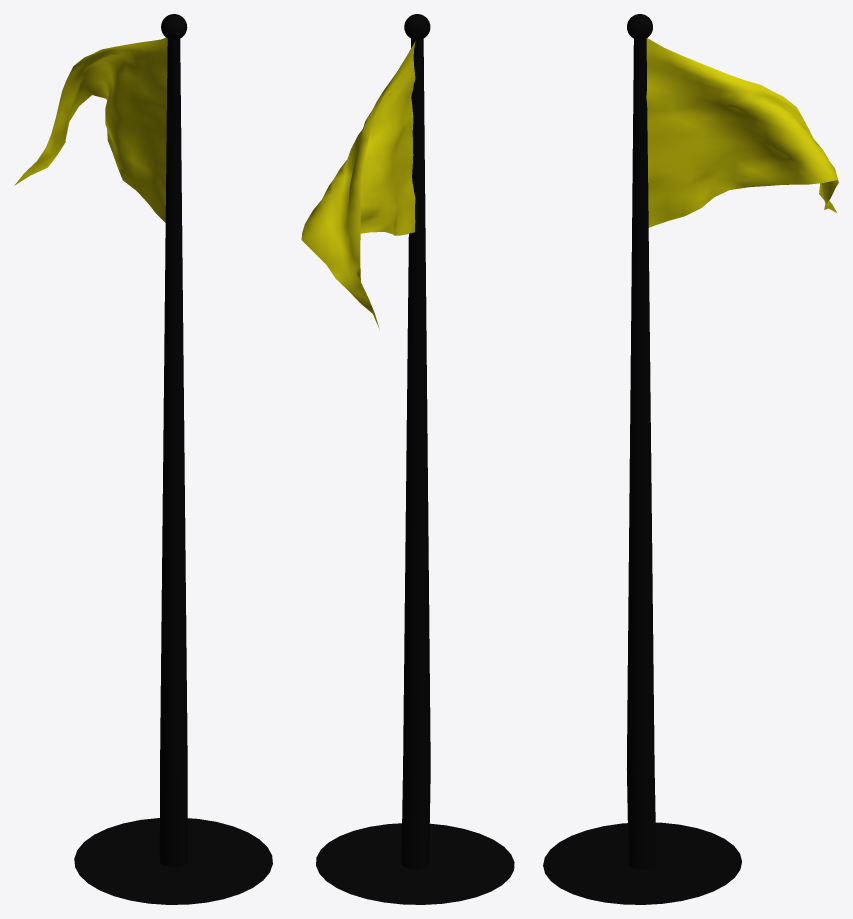
The model's file is FlagAnimated.fbx.
3 renders of one model, left to right at view 1: azimuth 30°, elevation 25°; view 2: azimuth 150°, elevation 25°; view 3: azimuth 270°, elevation 25°, orthographic.
Parts seen in each view (by area): view 1: Cylinder, Plane, Sphere; view 2: Cylinder, Plane, Sphere; view 3: Cylinder, Plane.
Part boxes in pixels (box(x1,y1,x2,y2)): Cylinder: box(74, 39, 272, 904); Plane: box(14, 37, 167, 222); Sphere: box(161, 14, 187, 39); Cylinder: box(316, 38, 514, 904); Plane: box(301, 41, 415, 328); Sphere: box(404, 14, 430, 39); Cylinder: box(543, 38, 741, 904); Plane: box(646, 38, 838, 227).
Bounding box in the file's own units: 94.89 × 447 × 141.
